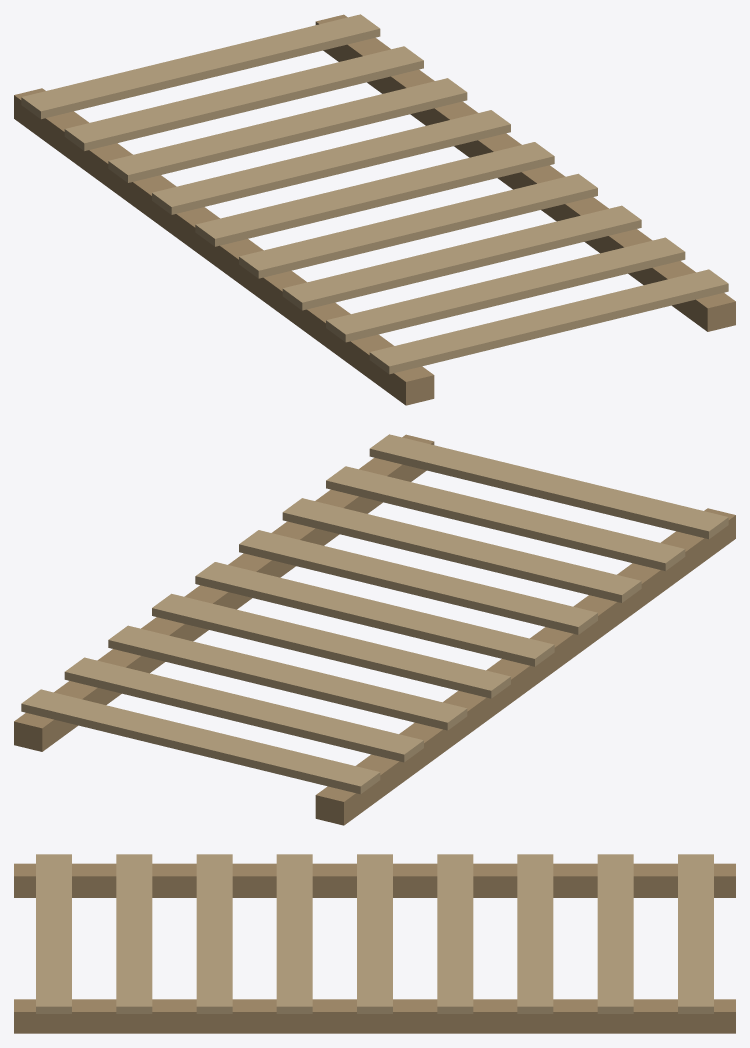
The model's file is wood_small.glb.
3 views of the same model, one above another, from view 1: azimuth 30°, elevation 25°; view 2: azimuth 150°, elevation 25°; view 3: azimuth 270°, elevation 25° (orthographic). The views are drawn at different scales.
Visible parts, largest first — view 1: BridgeWoodSmall; view 2: BridgeWoodSmall; view 3: BridgeWoodSmall.
Part boxes in pixels (box(x1,y1,x2,y2)): BridgeWoodSmall: box(14, 14, 735, 405); BridgeWoodSmall: box(14, 434, 735, 825); BridgeWoodSmall: box(14, 854, 735, 1033).
Bounding box in the file's own units: 1.8 × 0.16 × 3.6.
